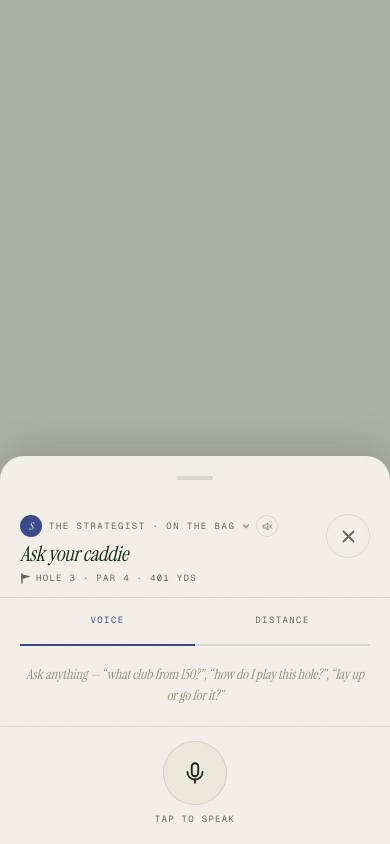
Test: CaddieSheet — streaming ladder (specs/voice-streaming-replies-plan.md) › tier 1: streams the reply from /session/voice/stream, renders progressively, updates history, speaks once
Step 1. Click the button named "Start recording" → {"x": 195, "y": 772}, box [163,740,227,804]
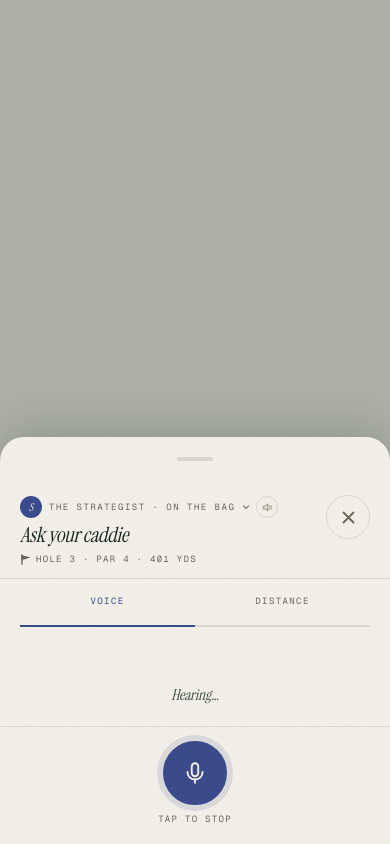
Step 2. Click the button named "Stop recording" → {"x": 195, "y": 772}, box [163,740,227,804]
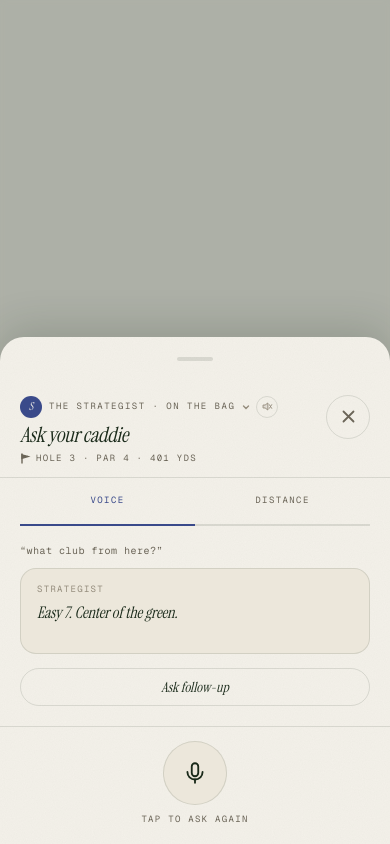
Now the text "Easy 7. Center of the green." is shown, box [37,602,178,623]
